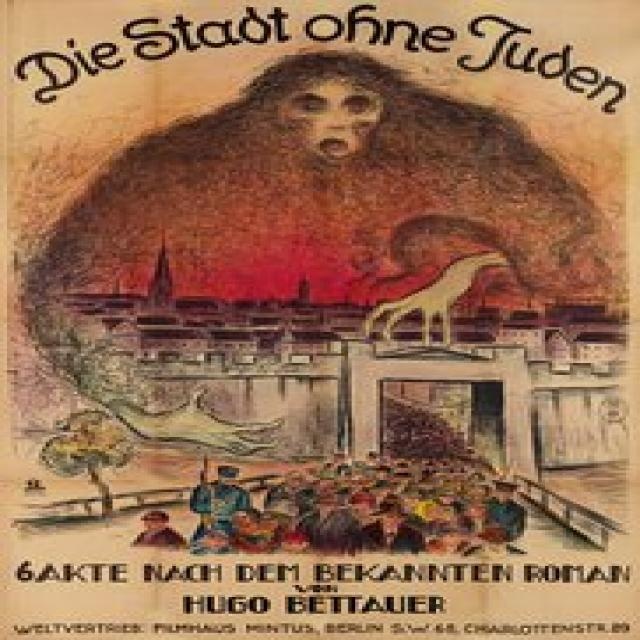movie-judul: (6, 1, 640, 124), (11, 548, 635, 624)
picture: (2, 54, 636, 561)
